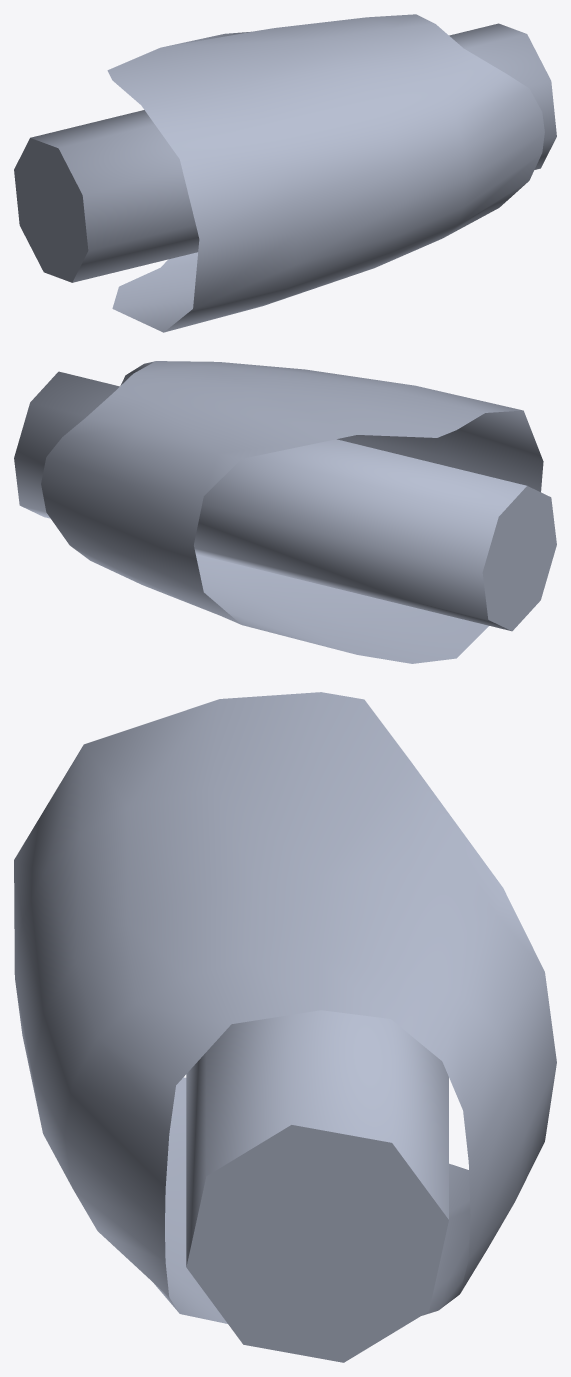
The model's file is l_forearm.dae.
3 views of the same model, one above another, from view 1: azimuth 30°, elevation 25°; view 2: azimuth 150°, elevation 25°; view 3: azimuth 270°, elevation 25° (orthographic). The views are drawn at different scales.
Visible parts, largest first — view 1: l_forearm_mesh; view 2: l_forearm_mesh; view 3: l_forearm_mesh.
Boxes of the visible parts, left/top/right/bottom form: l_forearm_mesh: left=14, top=14, right=556, bottom=332; l_forearm_mesh: left=14, top=361, right=556, bottom=663; l_forearm_mesh: left=14, top=692, right=556, bottom=1362.
Size of the model in its own units: 0.14 by 0.0795 by 0.0652.
